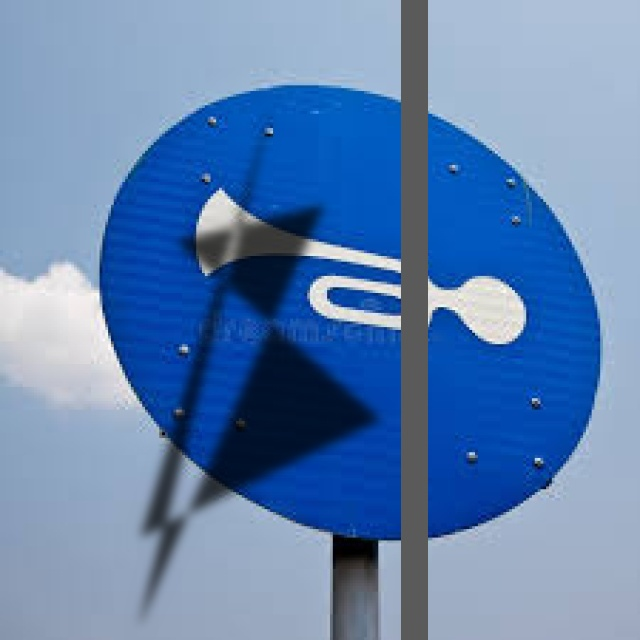Compulsory_Sound_Horn: (109, 84, 594, 528)
